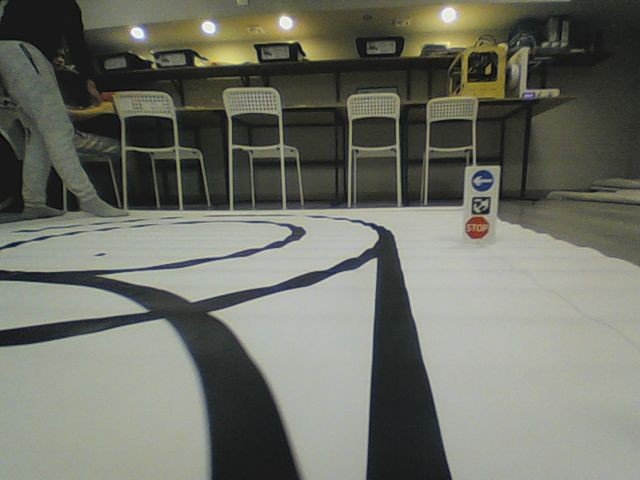Stop: (464, 215, 490, 240)
